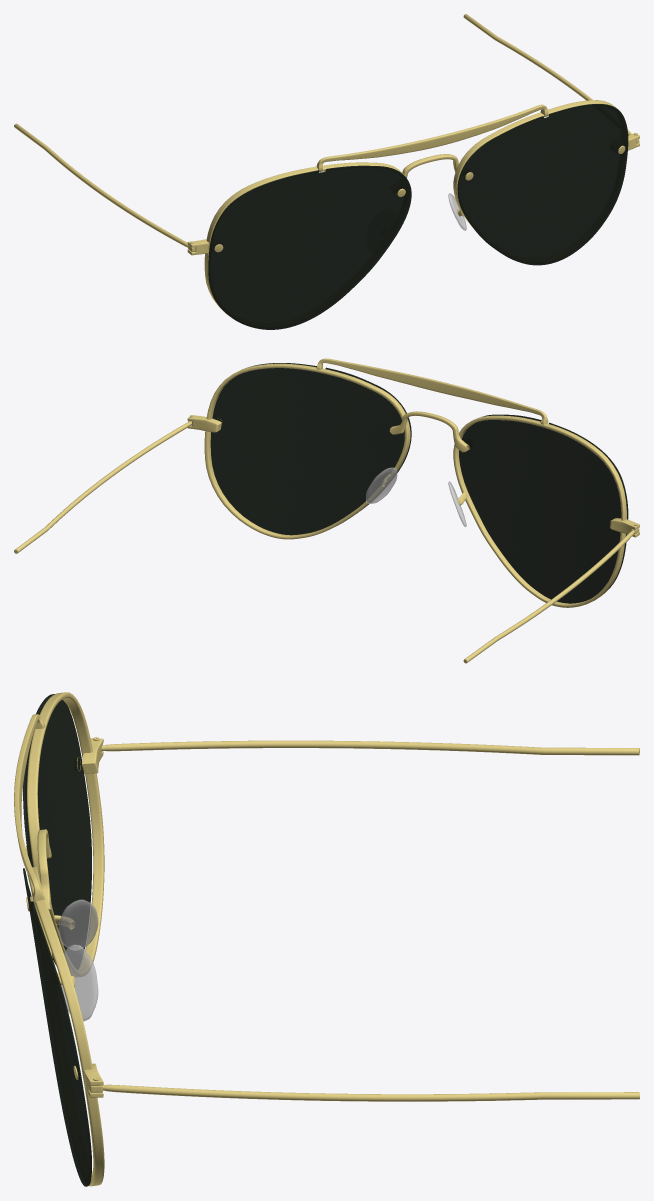
File: Blaze.gltf
The picture shows the model from 3 angles, top to bottom: view 1: azimuth 30°, elevation 25°; view 2: azimuth 150°, elevation 25°; view 3: azimuth 270°, elevation 25°; orthographic projection. The views are drawn at different scales.
Visible parts, largest first — view 1: Lentes, armacao; view 2: Lentes, armacao, Pontes; view 3: armacao, Lentes, Pontes.
Boxes of the visible parts, x1,y1,x2,y2 form: Lentes: (208, 104, 628, 329); armacao: (14, 14, 639, 315); Lentes: (210, 363, 628, 603); armacao: (14, 358, 639, 663); Pontes: (366, 467, 466, 527); armacao: (14, 692, 639, 1186); Lentes: (23, 694, 91, 1186); Pontes: (58, 899, 98, 1021).
Size of the model in its own units: 0.1576 by 0.0565 by 0.1171.
3 materials, 3 textured.
